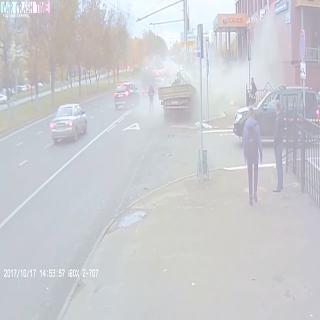multiple_accident: (149, 66, 248, 128)
